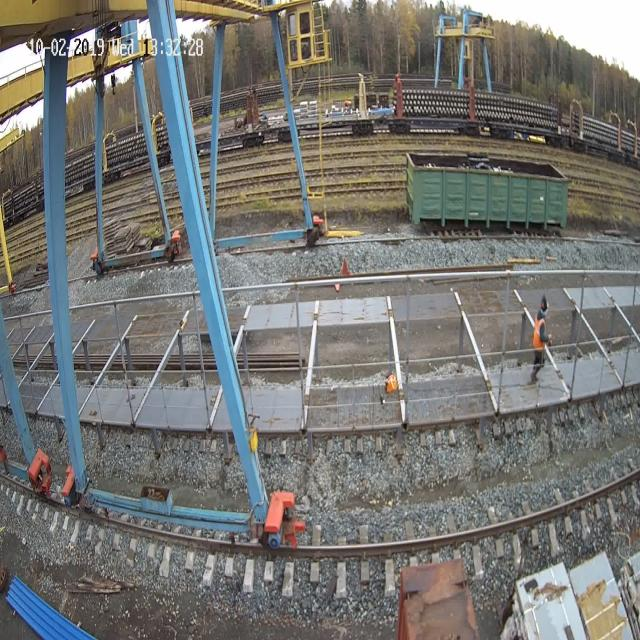Person: (530, 294, 552, 384)
